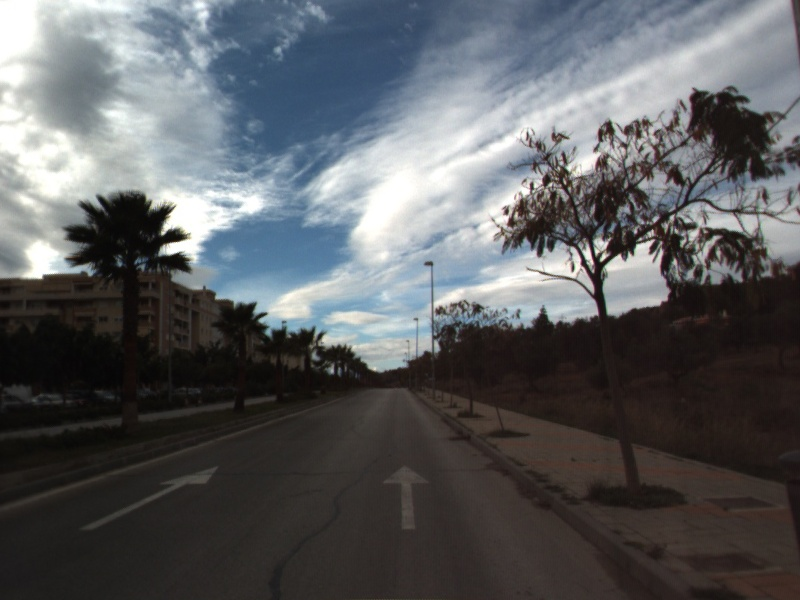STRAIGHT: (77, 464, 221, 532), (381, 463, 431, 532)
